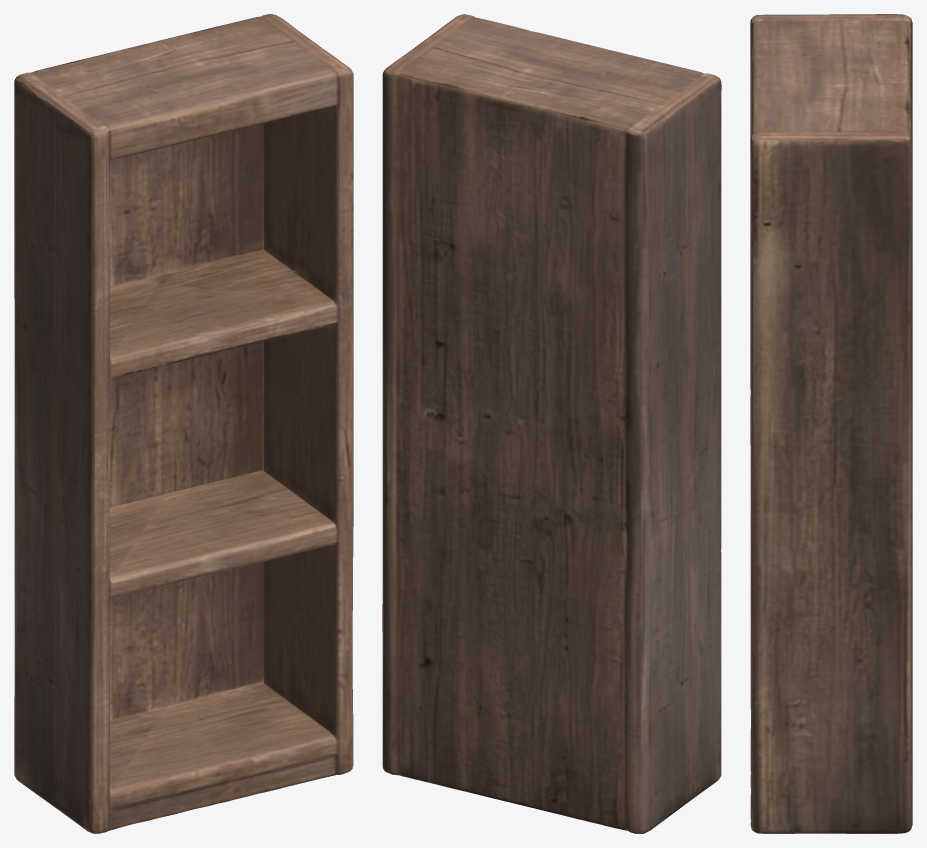
File: model_glb.glb
3 views of the same model, side by side, from view 1: azimuth 30°, elevation 25°; view 2: azimuth 150°, elevation 25°; view 3: azimuth 270°, elevation 25° (orthographic).
Parts seen in each view (by area): view 1: geometry_0; view 2: geometry_0; view 3: geometry_0.
Part boxes in pixels (box(x1,y1,x2,y2)): geometry_0: box(14, 14, 353, 833); geometry_0: box(382, 14, 721, 833); geometry_0: box(750, 14, 912, 833).
Size of the model in its own units: 1.8 by 4.55 by 0.9645.
Materials: 1 (1 with a texture image).
